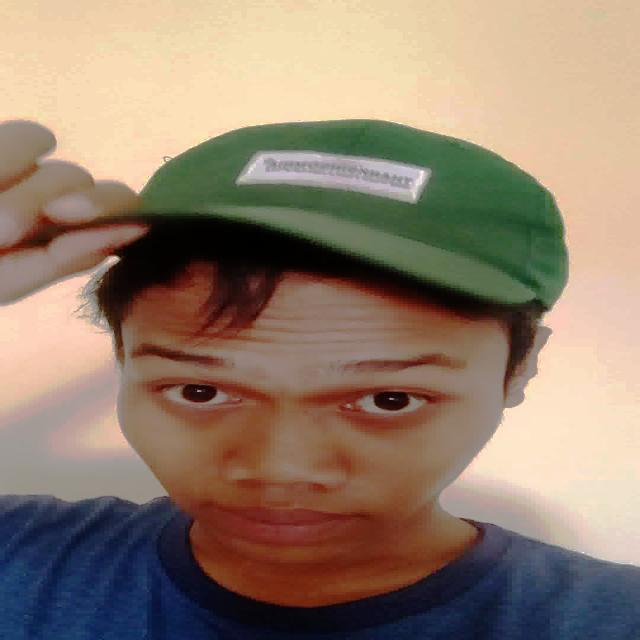TOPI: (124, 106, 600, 310)
